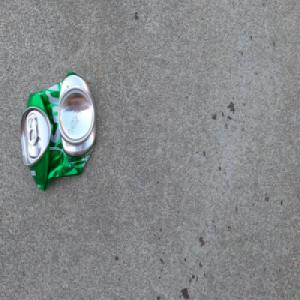SodaCan: (19, 69, 96, 192)
